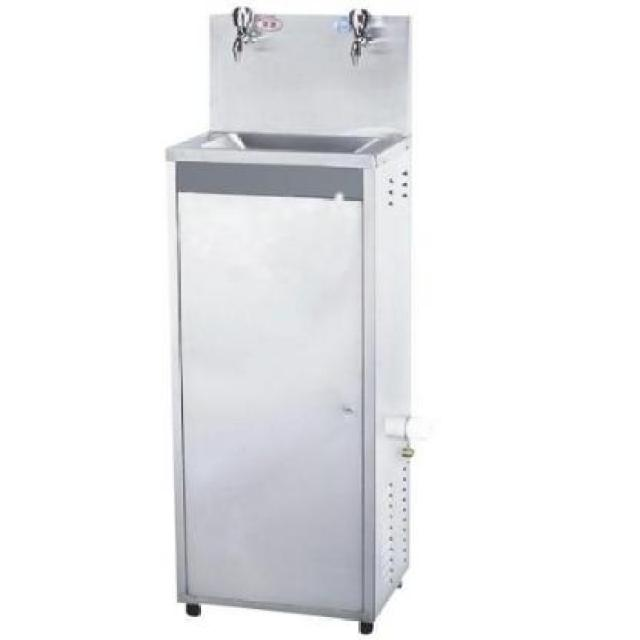cooler: (167, 1, 415, 640)
